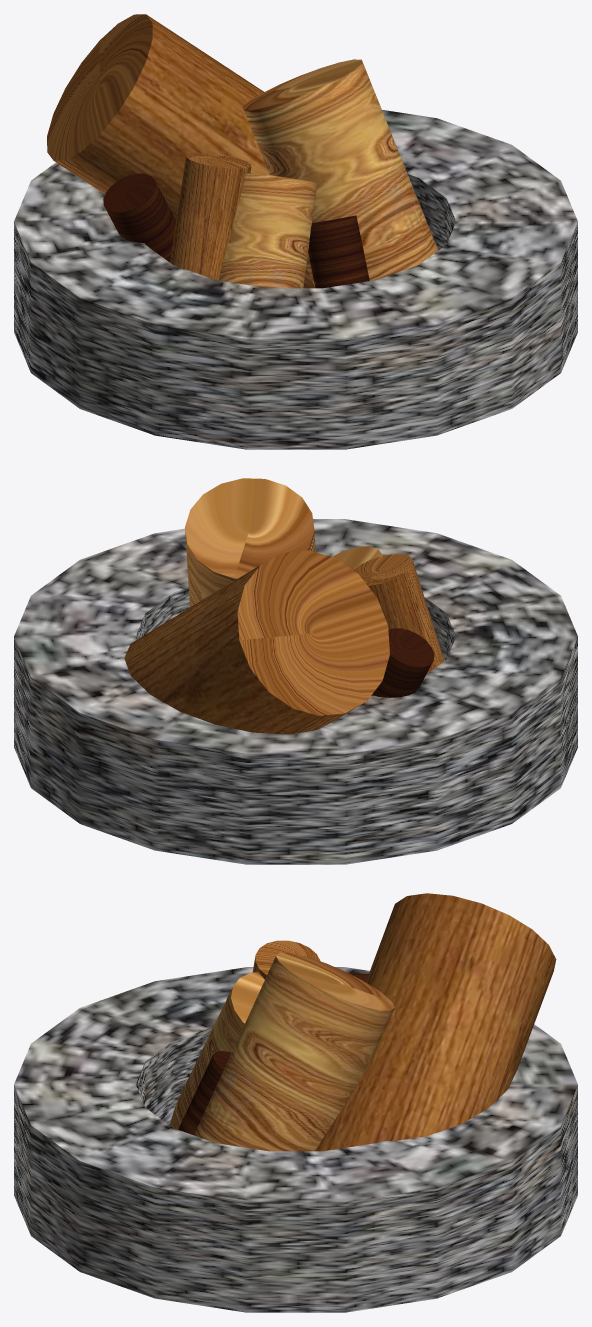
File: feu1.FBX
The picture shows the model from 3 angles, top to bottom: view 1: azimuth 30°, elevation 25°; view 2: azimuth 150°, elevation 25°; view 3: azimuth 270°, elevation 25°; orthographic projection.
Visible parts, largest first — view 1: Tube001, Cylinder002, Cylinder003, Cylinder005, Cylinder004, Cylinder007, Cylinder006; view 2: Tube001, Cylinder002, Cylinder003, Cylinder004, Cylinder007, Cylinder005; view 3: Tube001, Cylinder002, Cylinder003, Cylinder005, Cylinder006, Cylinder004.
Part boxes in pixels (x1,y1,x2,y2): Tube001: (14, 110, 577, 449); Cylinder002: (47, 14, 314, 288); Cylinder003: (243, 59, 438, 287); Cylinder005: (219, 172, 317, 288); Cylinder004: (170, 153, 251, 280); Cylinder007: (103, 173, 176, 262); Cylinder006: (308, 215, 369, 288); Tube001: (14, 519, 577, 864); Cylinder002: (124, 550, 389, 734); Cylinder003: (185, 478, 315, 607); Cylinder004: (353, 554, 444, 673); Cylinder007: (371, 628, 434, 697); Cylinder005: (332, 546, 445, 660); Tube001: (14, 967, 577, 1312); Cylinder002: (314, 893, 556, 1151); Cylinder003: (194, 952, 394, 1151); Cylinder005: (169, 972, 264, 1129); Cylinder006: (178, 1051, 231, 1135); Cylinder004: (252, 940, 320, 979).
Size of the model in its own units: 77.96 by 51.13 by 79.16.
Materials: 4 (4 with a texture image).
